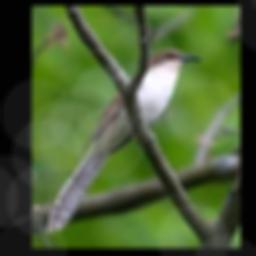Cuckoo: (48, 48, 203, 232)
